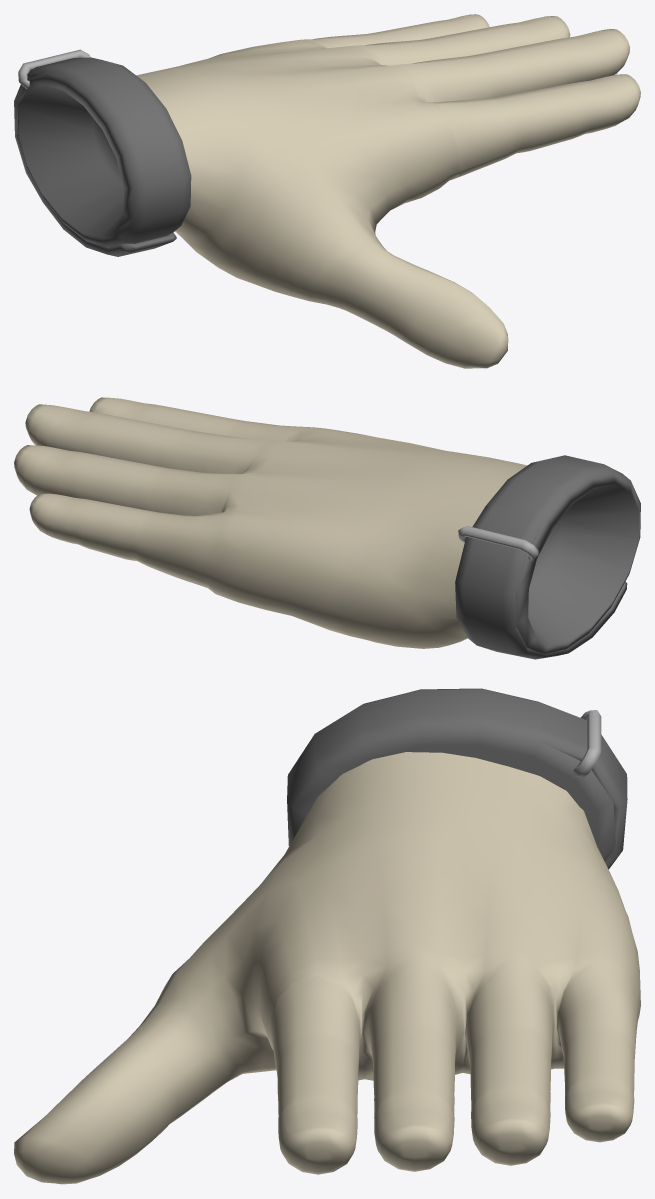
Rendered from hand.fbx.
3 views of the same model, one above another, from view 1: azimuth 30°, elevation 25°; view 2: azimuth 150°, elevation 25°; view 3: azimuth 270°, elevation 25° (orthographic). The views are drawn at different scales.
Parts seen in each view (by area): view 1: polySurface912; view 2: polySurface912; view 3: polySurface912.
Boxes of the visible parts, x1,y1,x2,y2 form: polySurface912: [14, 14, 640, 368]; polySurface912: [14, 397, 640, 659]; polySurface912: [14, 688, 640, 1184].
Size of the model in its own units: 27.7 by 11.86 by 20.36.
